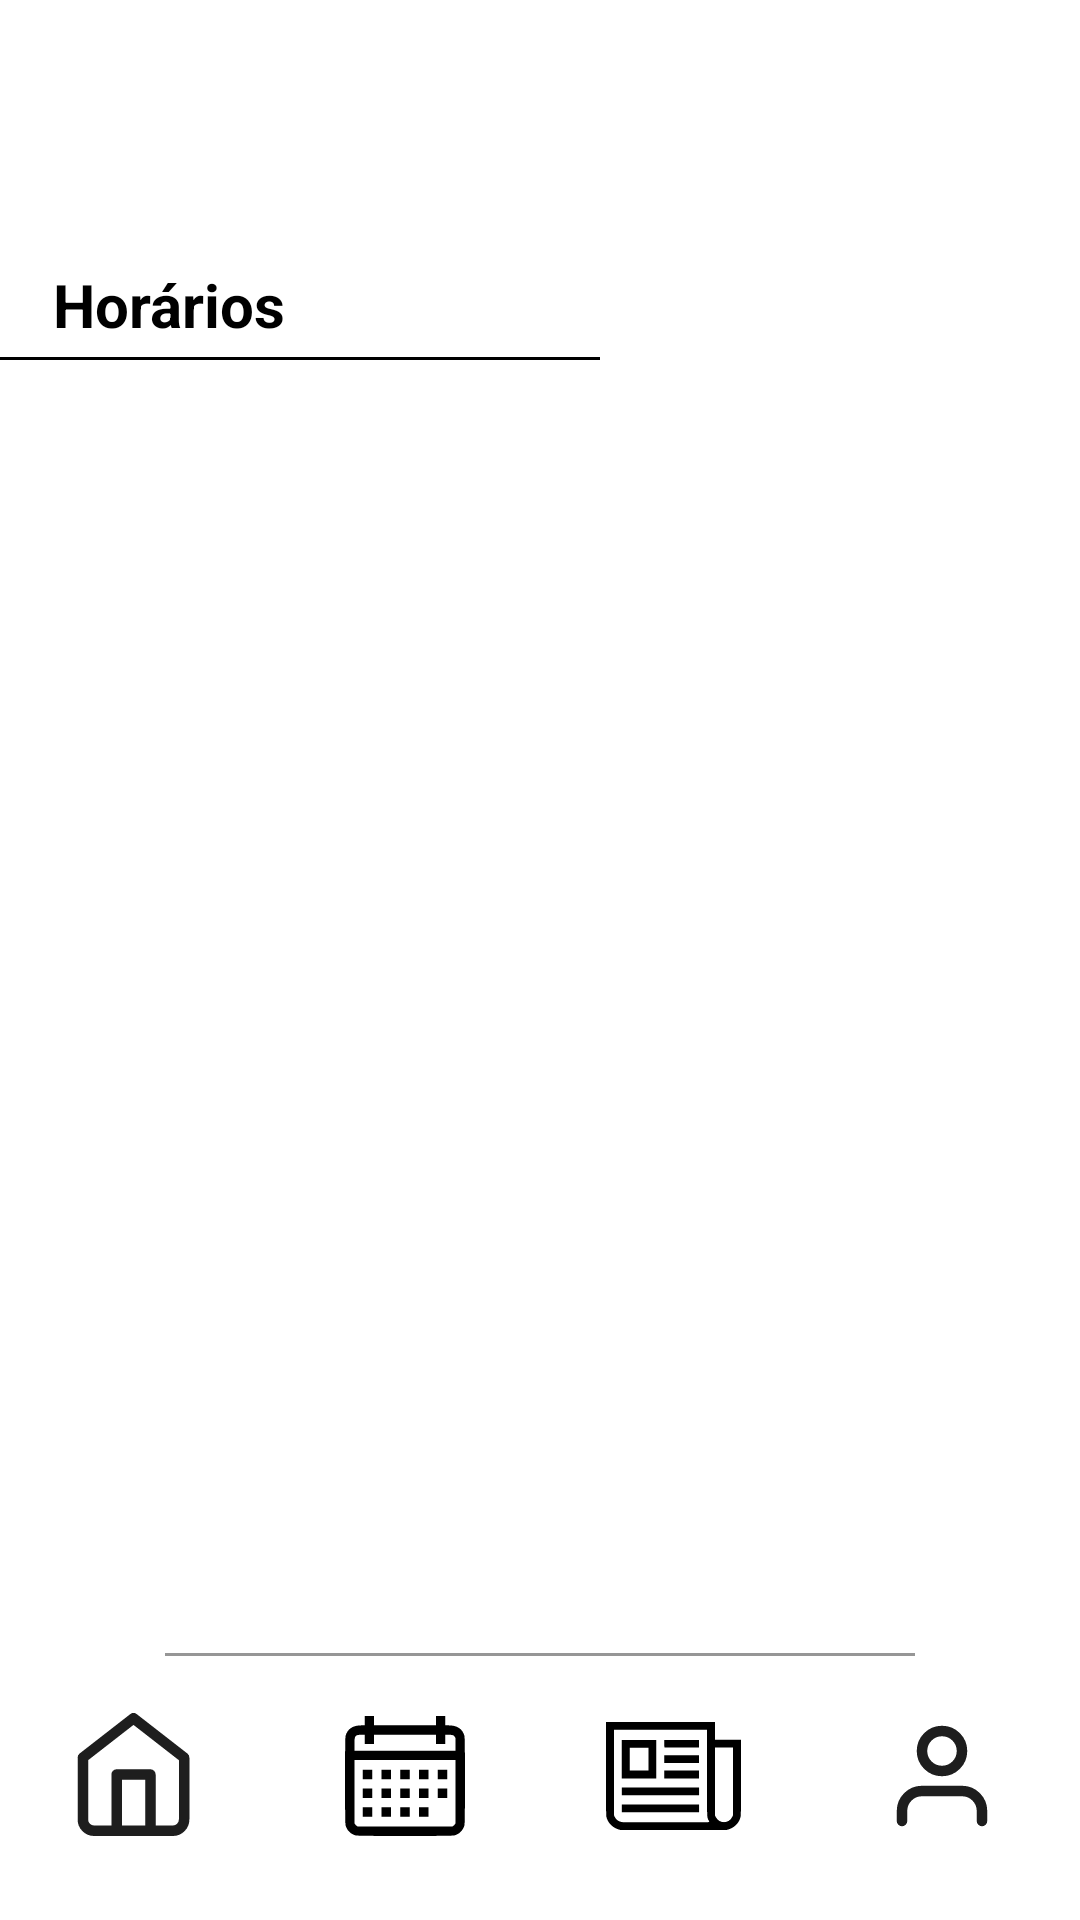

Icons on this 1080*1920 Android screen, each with the point to tap as (x=x, y=y):
Botão para aba notícias: (x=673, y=1776)
Botão para calendário: (x=405, y=1776)
Botão para página principal: (x=133, y=1774)
Botão para área de usuário: (x=942, y=1776)
